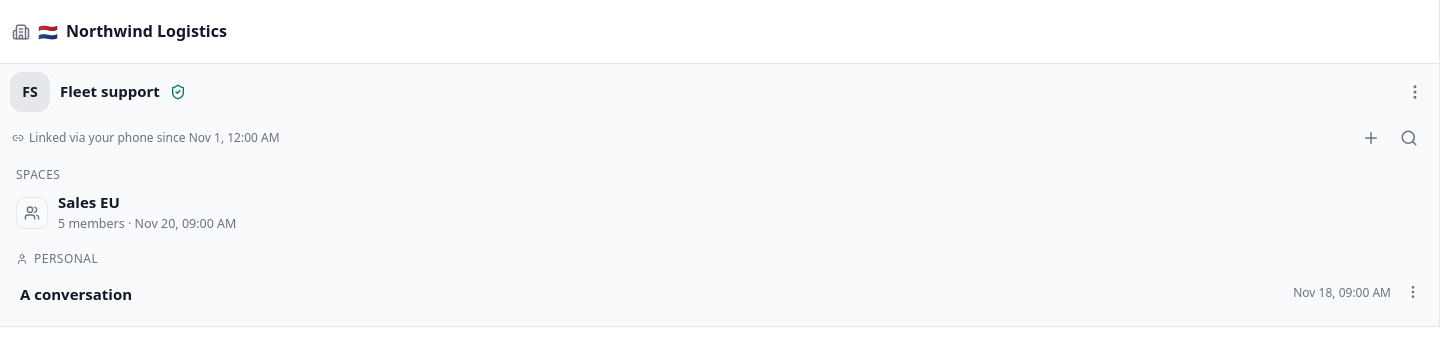
Show Admin and Hide Admin in the agent's menu (UI-ADMIN-001) › offers Show Admin to Jonas, who holds auditor, with its icon
Click the 1st button named "Agent options": (1415, 92) [1397, 74, 1433, 110]
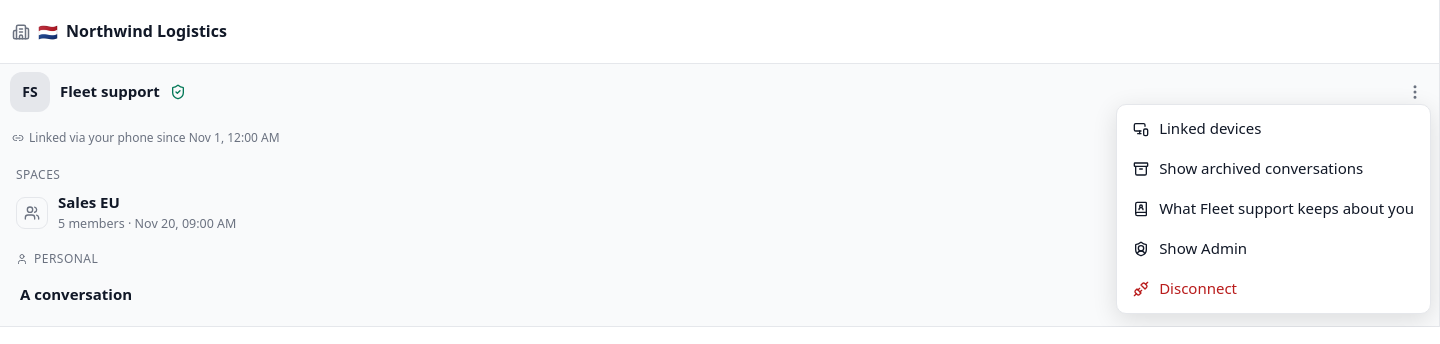
Expected: the menu item "Show Admin" is shown, [1121, 229, 1426, 269]
